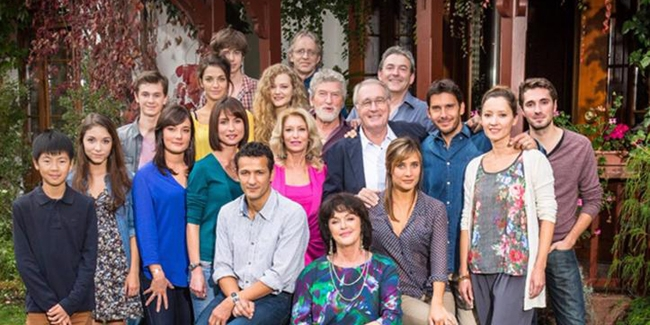without_mask: (34, 135, 72, 187), (237, 149, 273, 199), (354, 88, 392, 131), (520, 88, 559, 129), (326, 202, 361, 246), (427, 88, 460, 134), (482, 99, 516, 141), (388, 151, 421, 191), (312, 78, 344, 119), (378, 51, 409, 93), (81, 124, 115, 162), (214, 108, 244, 149), (161, 118, 192, 156), (281, 115, 309, 154), (136, 79, 166, 115), (200, 63, 230, 99), (213, 42, 245, 74), (267, 73, 295, 108), (292, 37, 316, 76)
